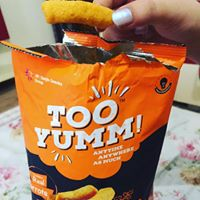plastic: (31, 33, 153, 198)
tooyumm: (34, 84, 152, 148)
wrapper: (11, 39, 186, 200)
